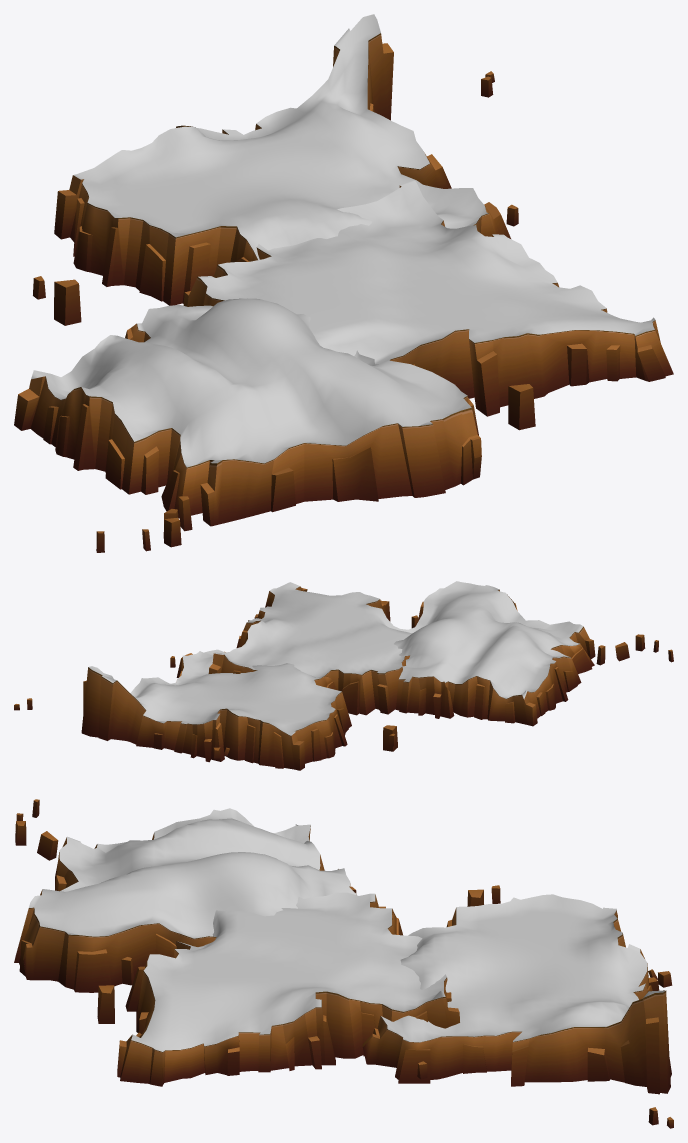
Rendered from level_Level01.fbx.
3 views of the same model, one above another, from view 1: azimuth 30°, elevation 25°; view 2: azimuth 150°, elevation 25°; view 3: azimuth 270°, elevation 25° (orthographic). The views are drawn at different scales.
Parts seen in each view (by area): view 1: Surface (×3), Cliffs (×3), Rock013, Rock06; view 2: Surface (×3), Cliffs (×3), Rock06; view 3: Surface (×3), Cliffs (×3), Rock013.
Part boxes in pixels (box(x1,y1,x2,y2)): Surface (×3): box(31, 14, 655, 467); Cliffs (×3): box(14, 33, 673, 526); Rock013: box(508, 384, 535, 430); Rock06: box(54, 279, 81, 325); Surface (×3): box(88, 581, 583, 735); Cliffs (×3): box(81, 586, 595, 770); Rock06: box(383, 725, 397, 751); Surface (×3): box(29, 808, 665, 1051); Cliffs (×3): box(14, 826, 671, 1094); Rock013: box(97, 985, 114, 1023).
Bounding box in the file's own units: 16990 × 2583 × 14911.
